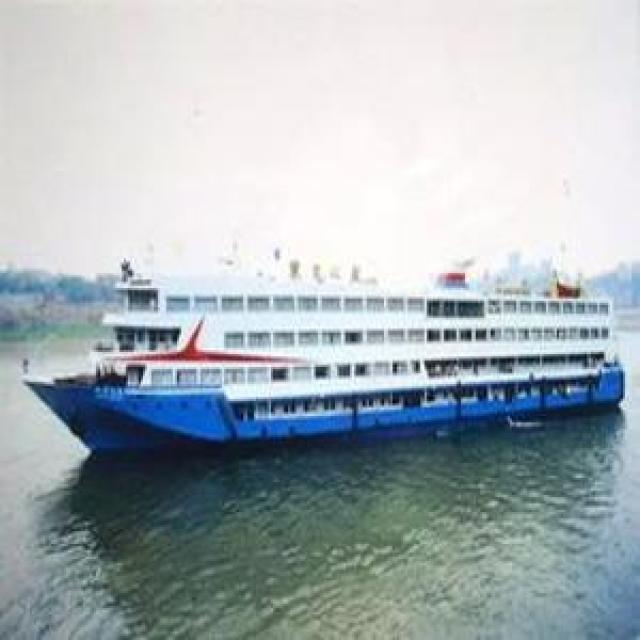passenger ship: (20, 234, 624, 445)
